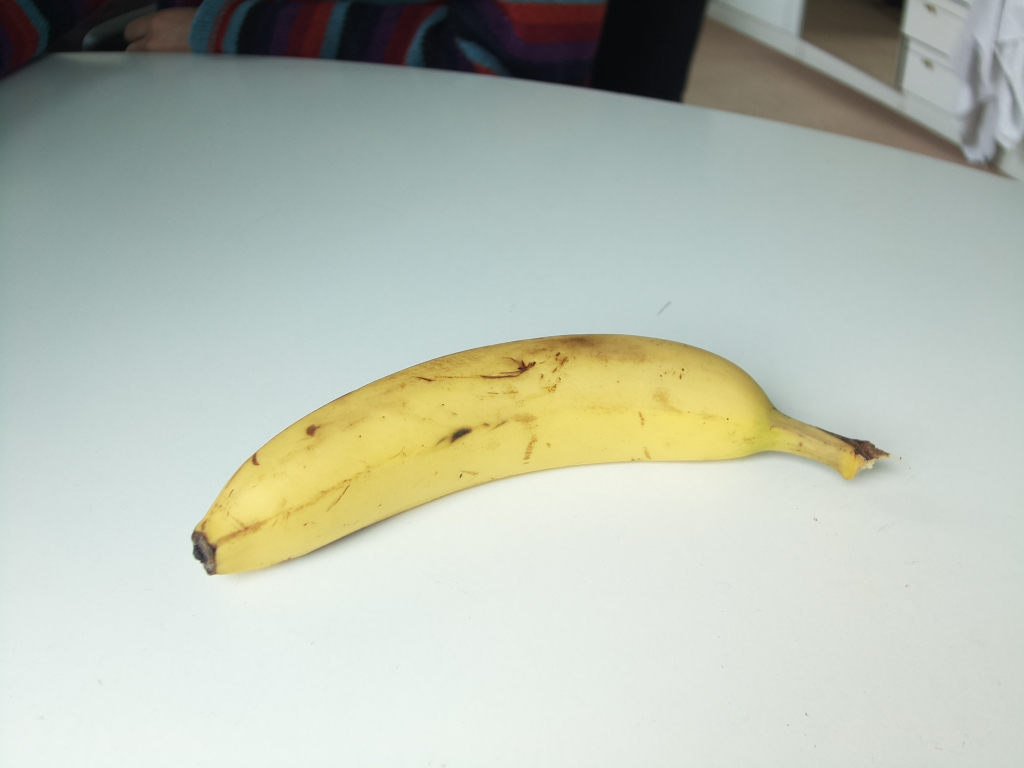banana: (191, 333, 889, 582)
